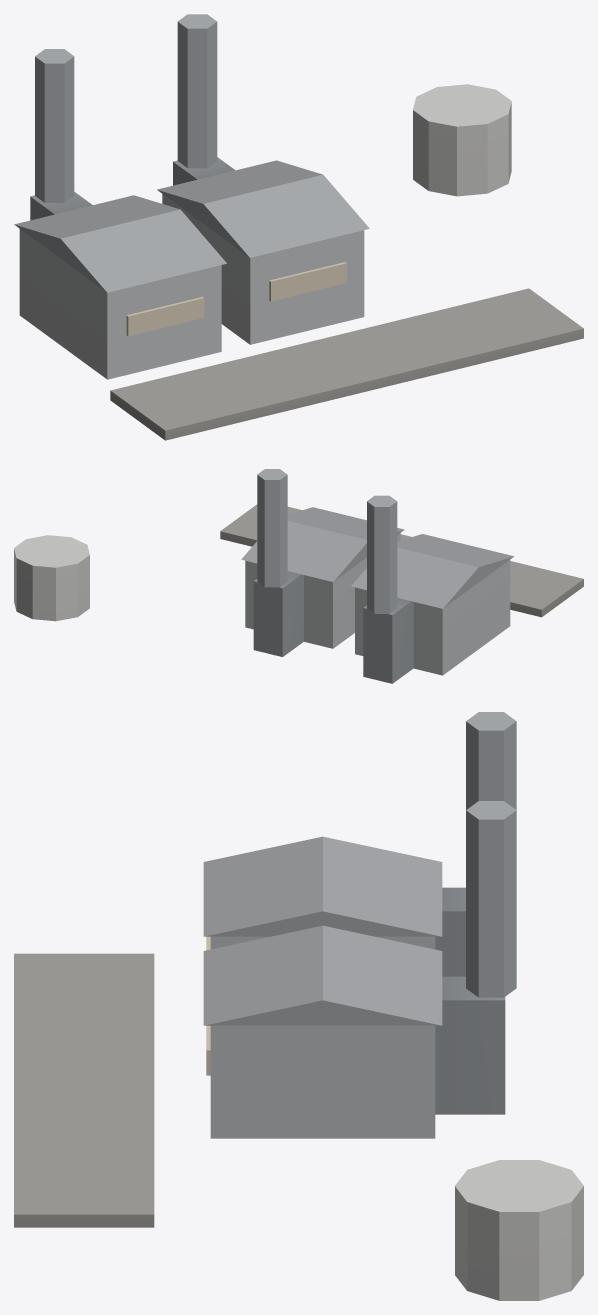
Rendered from plant_peaker_l1.glb.
3 views of the same model, one above another, from view 1: azimuth 30°, elevation 25°; view 2: azimuth 150°, elevation 25°; view 3: azimuth 270°, elevation 25° (orthographic). The views are drawn at different scales.
Parts seen in each view (by area): view 1: plant_peaker_l1; view 2: plant_peaker_l1; view 3: plant_peaker_l1.
Boxes of the visible parts, <box> form: plant_peaker_l1: <box>14,14,583,440</box>; plant_peaker_l1: <box>14,469,583,683</box>; plant_peaker_l1: <box>14,712,583,1300</box>.
Bounding box in the file's own units: 56.37 × 23 × 40.6.
